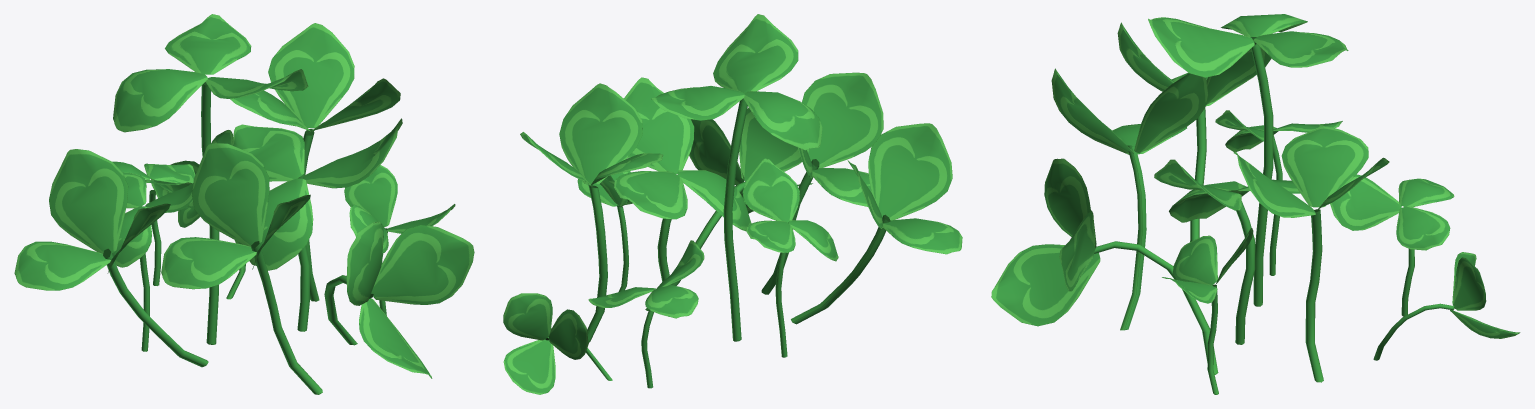
Rendered from SM_TrefleTas1.fbx.
3 views of the same model, side by side, from view 1: azimuth 30°, elevation 25°; view 2: azimuth 150°, elevation 25°; view 3: azimuth 270°, elevation 25° (orthographic). The views are drawn at different scales.
Parts seen in each view (by area): view 1: Trefle_Tige_005; view 2: Trefle_Tige_005; view 3: Trefle_Tige_005.
Boxes of the visible parts, left/top/right/bottom form: Trefle_Tige_005: left=14, top=14, right=474, bottom=394; Trefle_Tige_005: left=503, top=14, right=962, bottom=394; Trefle_Tige_005: left=991, top=14, right=1520, bottom=394.
Bounding box in the file's own units: 25.6 × 28.4 × 18.79.
1 material, 1 textured.
